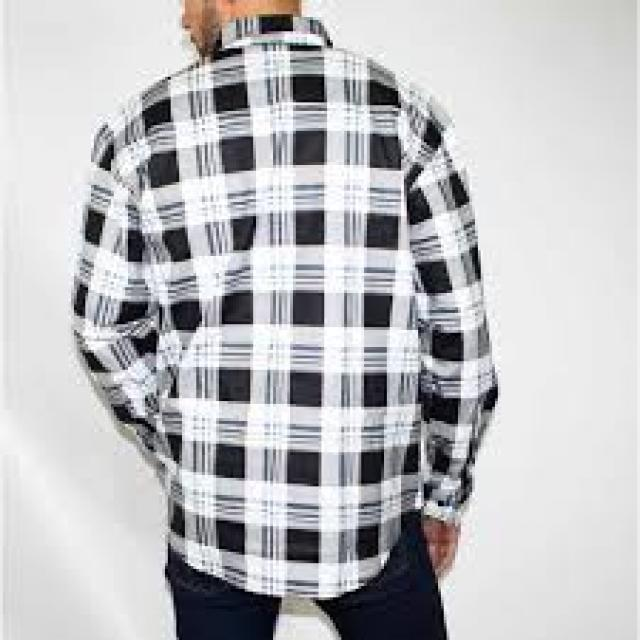plaid: (75, 13, 508, 602)
